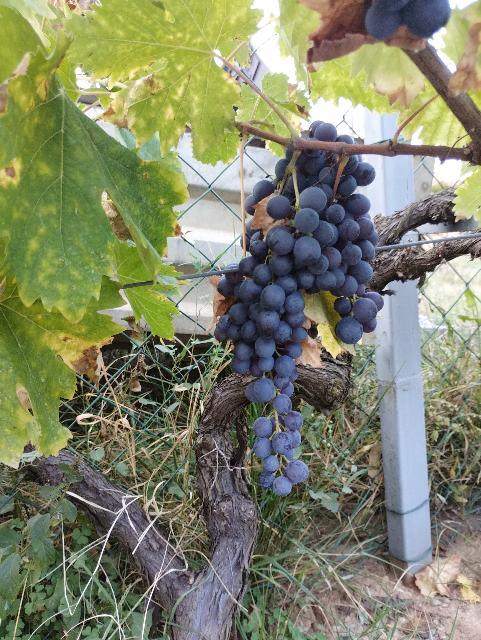grapes: (215, 150, 385, 496)
